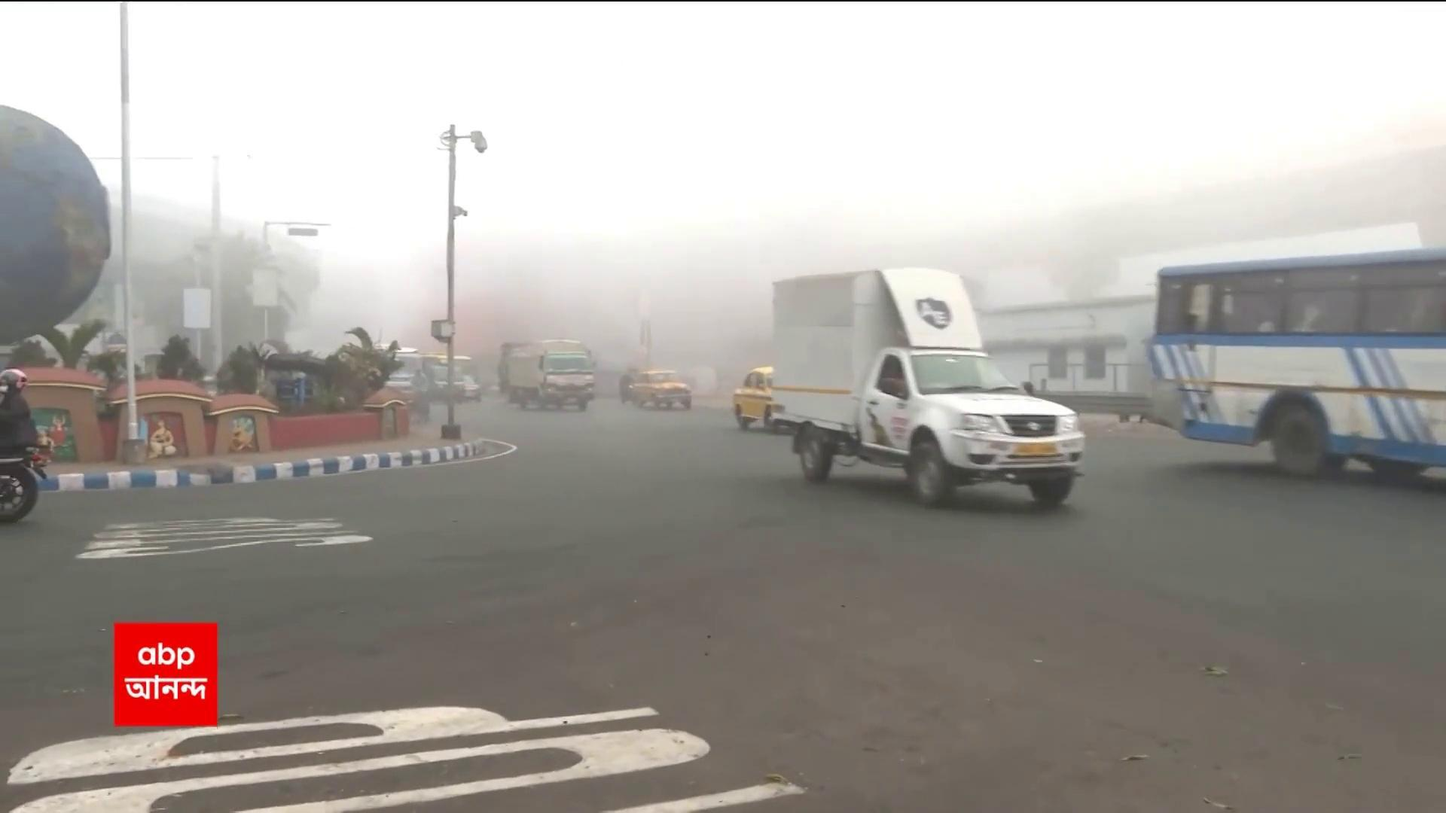Bus: (1140, 241, 1446, 486)
Car: (621, 366, 699, 416)
Truck: (764, 271, 1091, 519), (501, 336, 600, 413)
